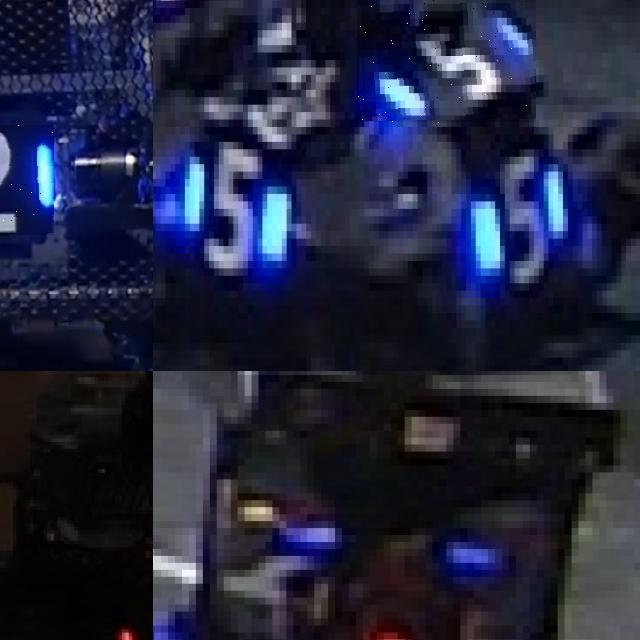B2: (0, 125, 53, 235)
B5: (356, 0, 536, 123), (456, 142, 573, 291), (173, 123, 289, 272)
